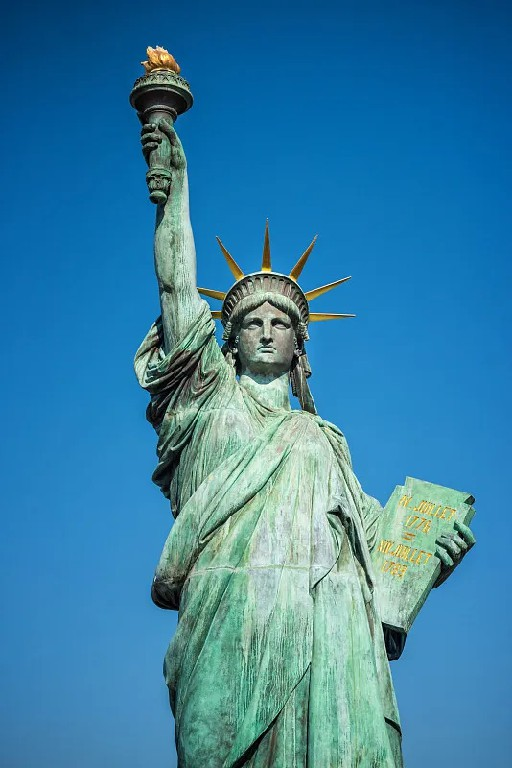SL: (129, 43, 477, 768)
